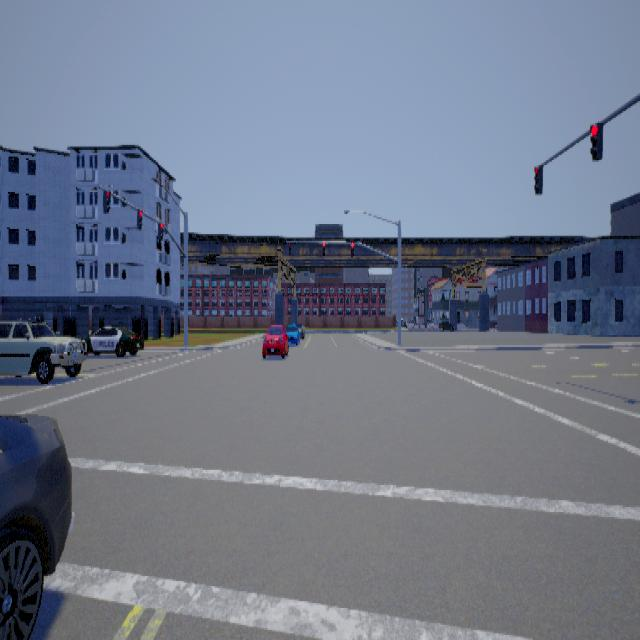red_light: (589, 120, 602, 160), (533, 163, 542, 194), (102, 189, 110, 212), (136, 207, 142, 229), (157, 221, 163, 239), (351, 242, 354, 256), (322, 242, 324, 256), (288, 241, 290, 254)
vehicle: (0, 413, 74, 638), (0, 306, 84, 382), (80, 315, 146, 360), (261, 322, 304, 357)
